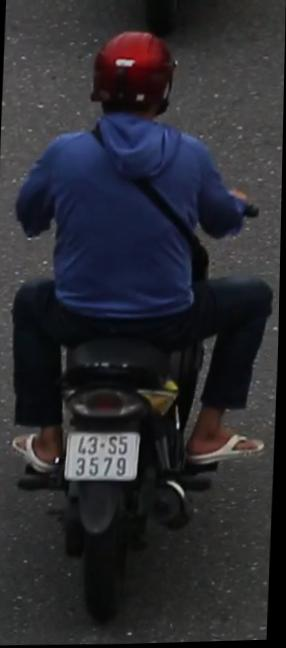LP: (62, 427, 146, 491)
helmet: (82, 24, 182, 141)
